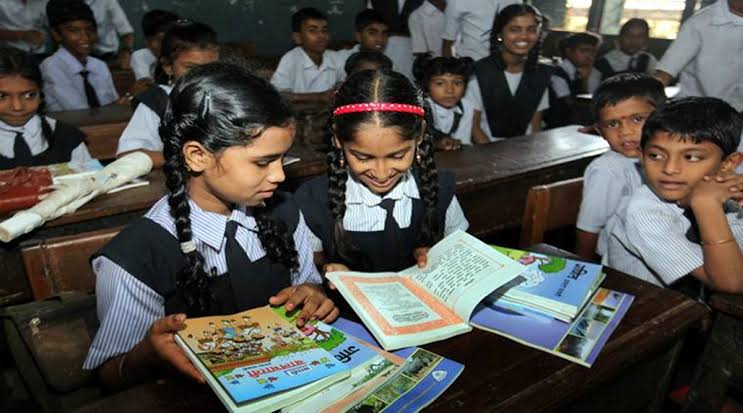student: (151, 70, 301, 206), (321, 68, 424, 197), (642, 103, 741, 202), (585, 77, 670, 153), (151, 18, 225, 85), (416, 51, 478, 111), (491, 7, 549, 63), (1, 47, 43, 121), (279, 4, 333, 52)
